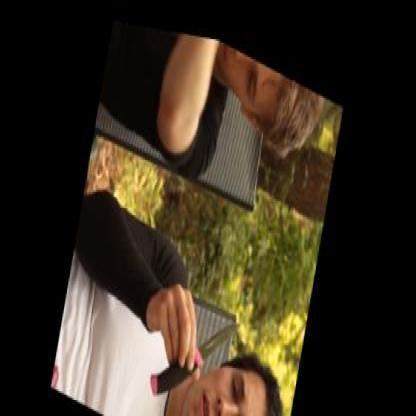knife: (143, 263, 253, 414)
